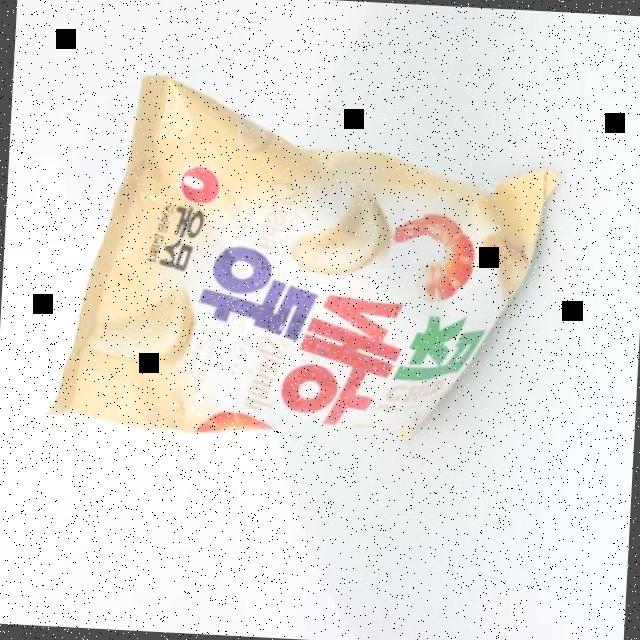snack_bag: (33, 66, 574, 497)
